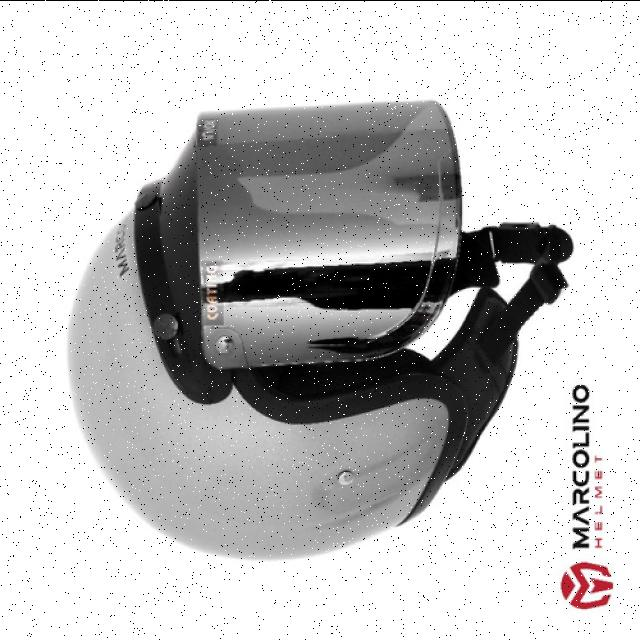Helmet: (65, 100, 575, 563)
